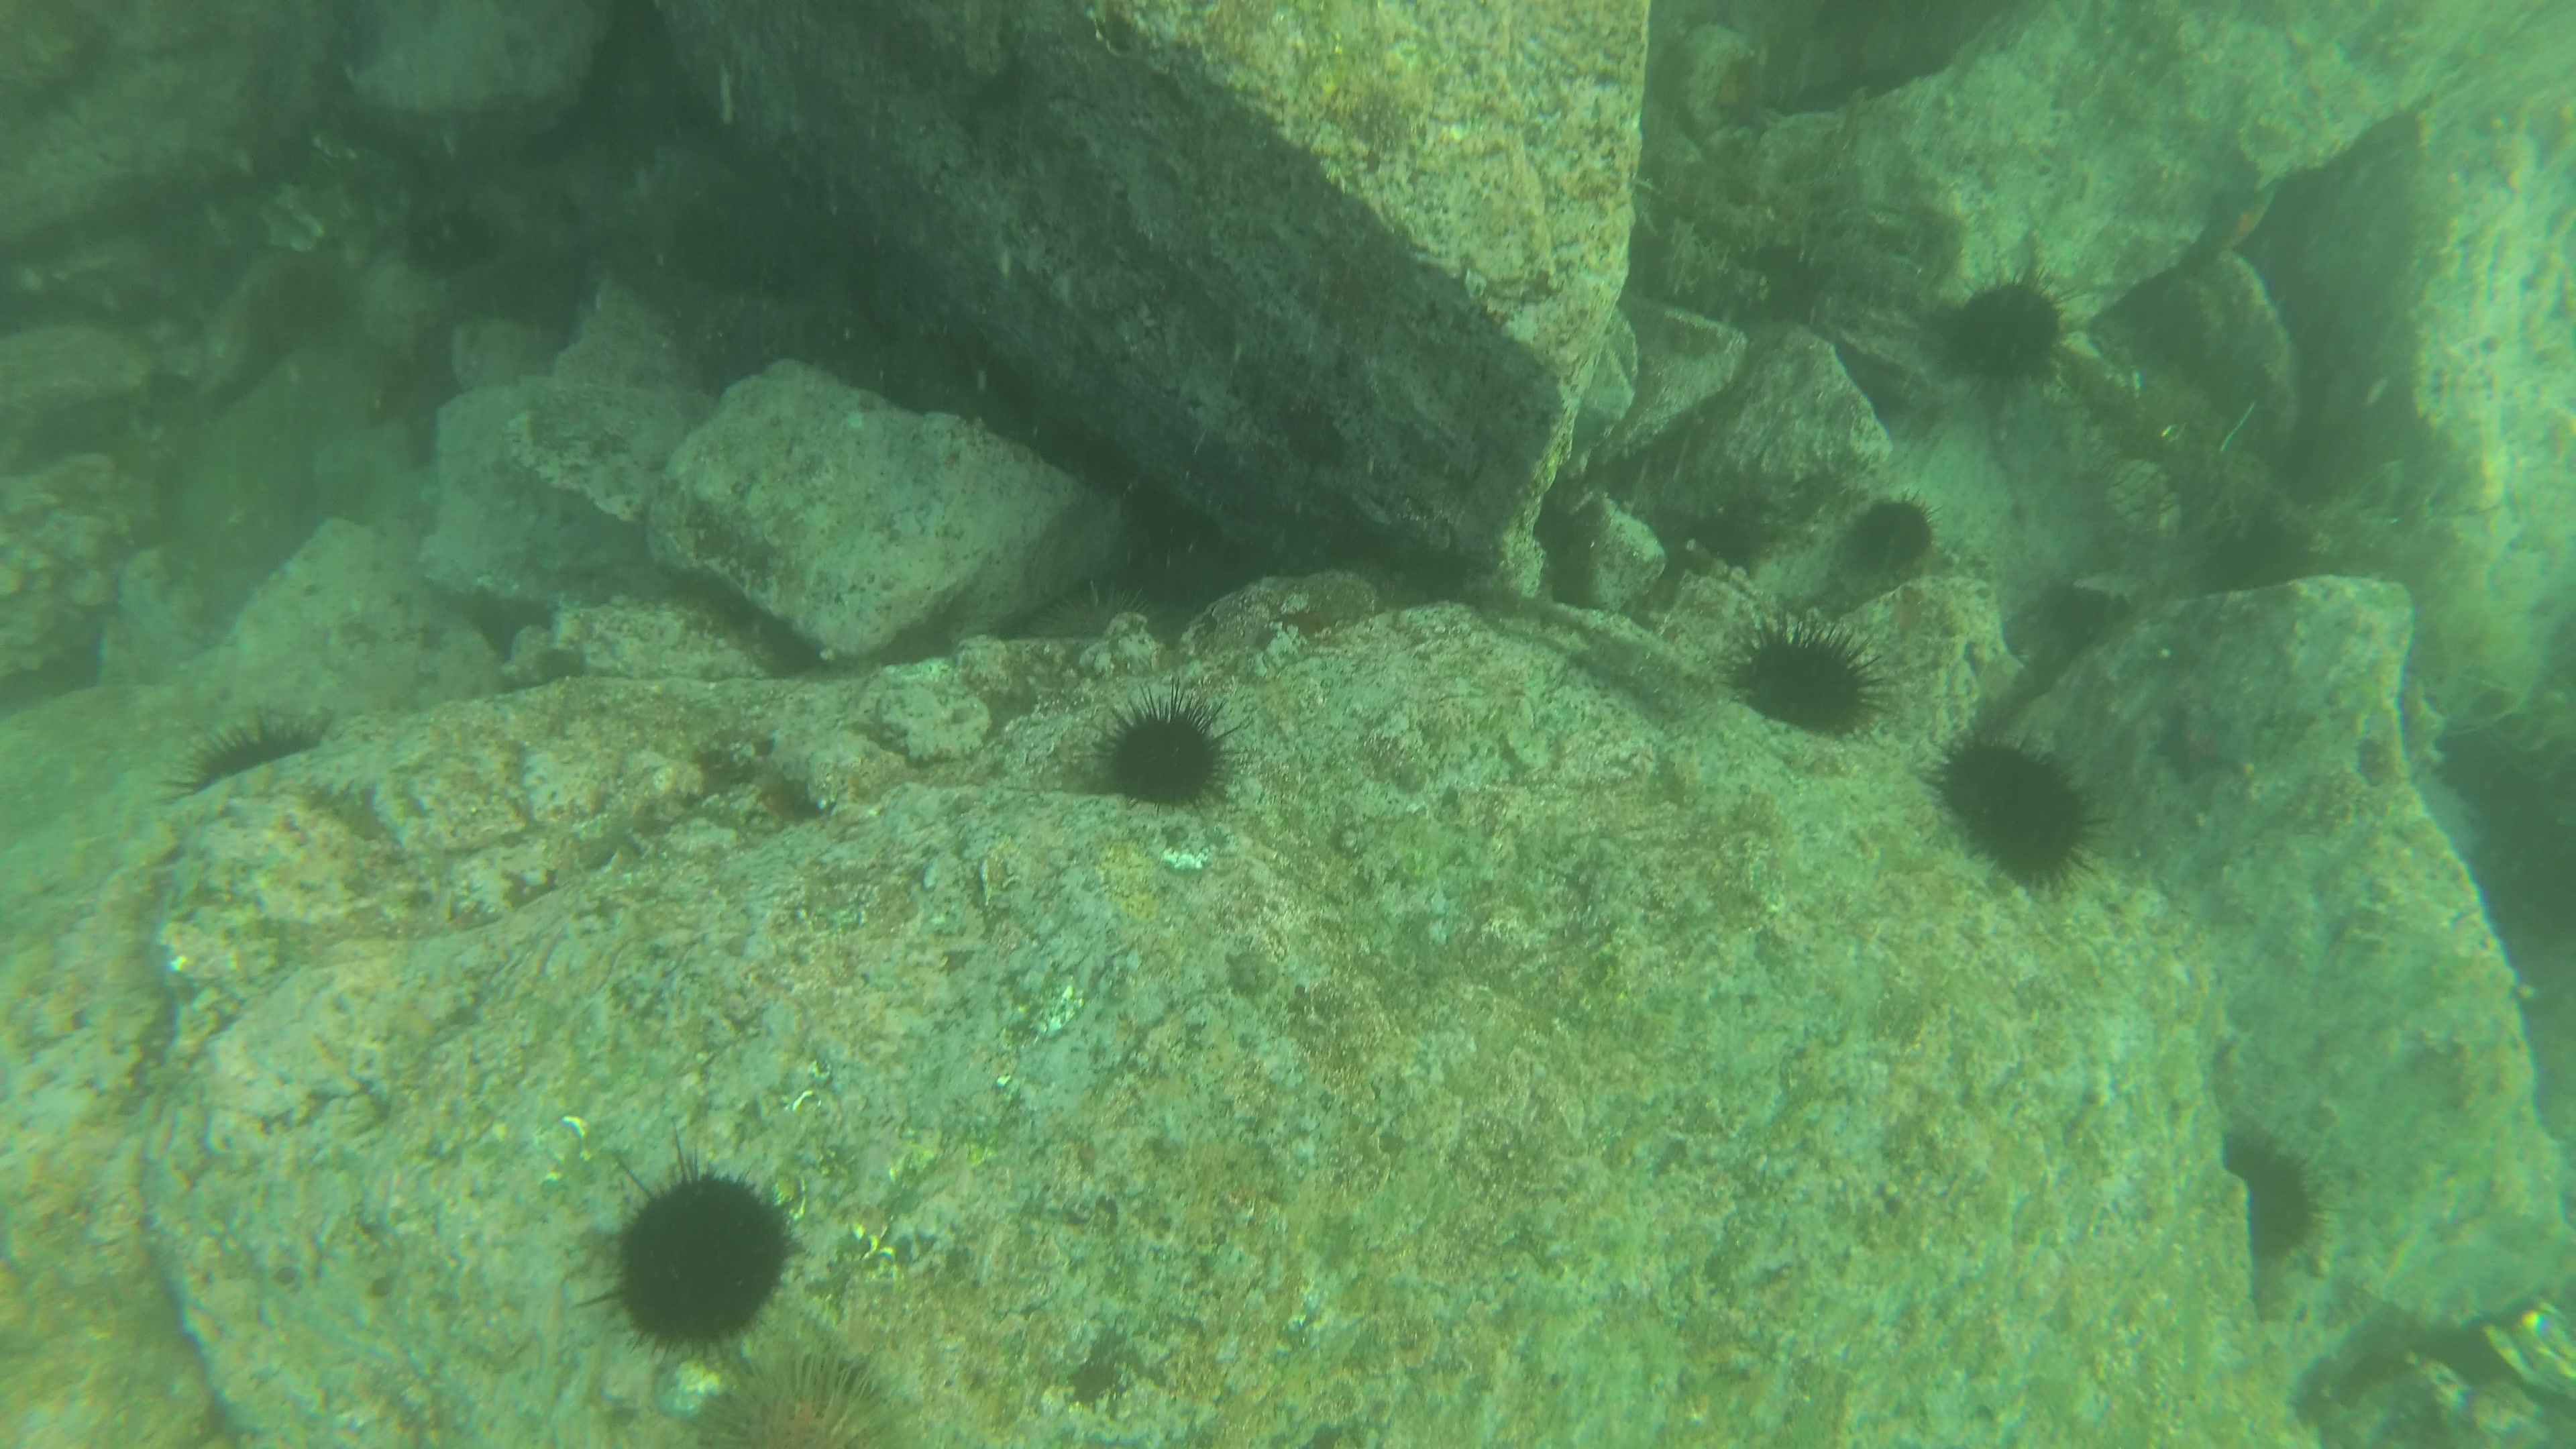echinus: (596, 1162, 794, 1338), (1941, 725, 2098, 888), (1085, 688, 1247, 810), (1732, 621, 1893, 741), (697, 1361, 911, 1444), (2226, 1136, 2327, 1272), (1941, 280, 2066, 384), (186, 718, 306, 798), (1847, 497, 1951, 582)
scallop: (649, 1369, 738, 1410)
